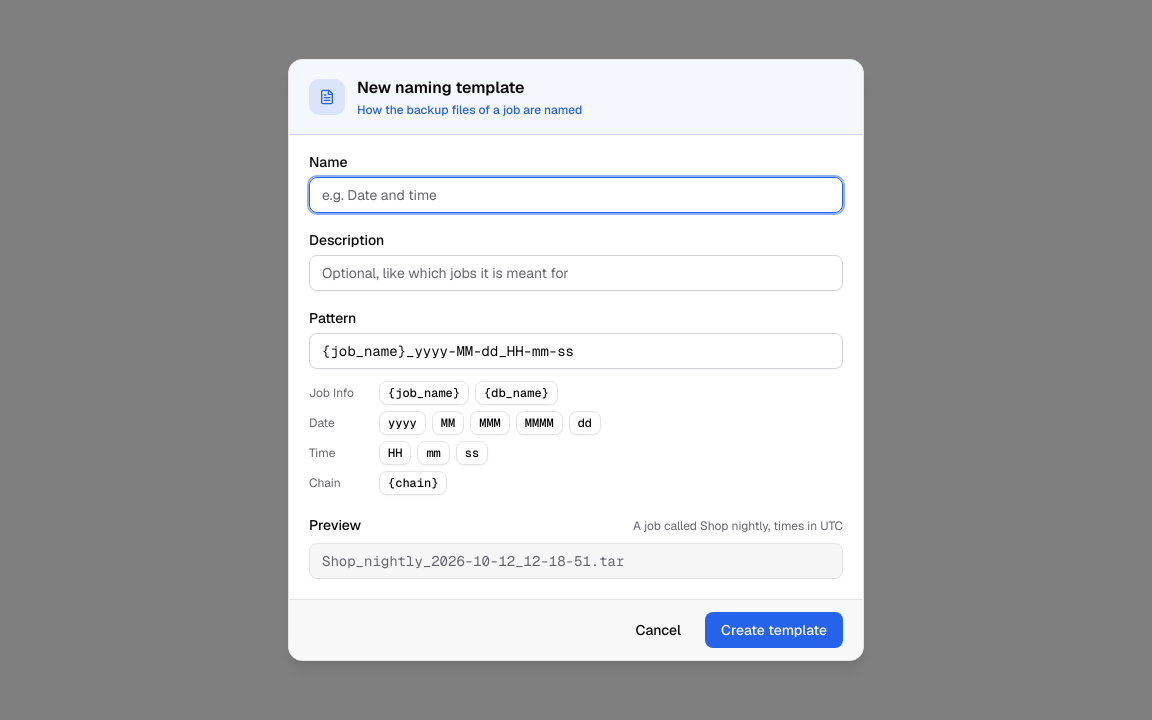
Test: naming template dialog › asks for a name before it saves
The image size is (1152, 720).
Click the button "Create template": [774, 630] box [705, 612, 843, 648]
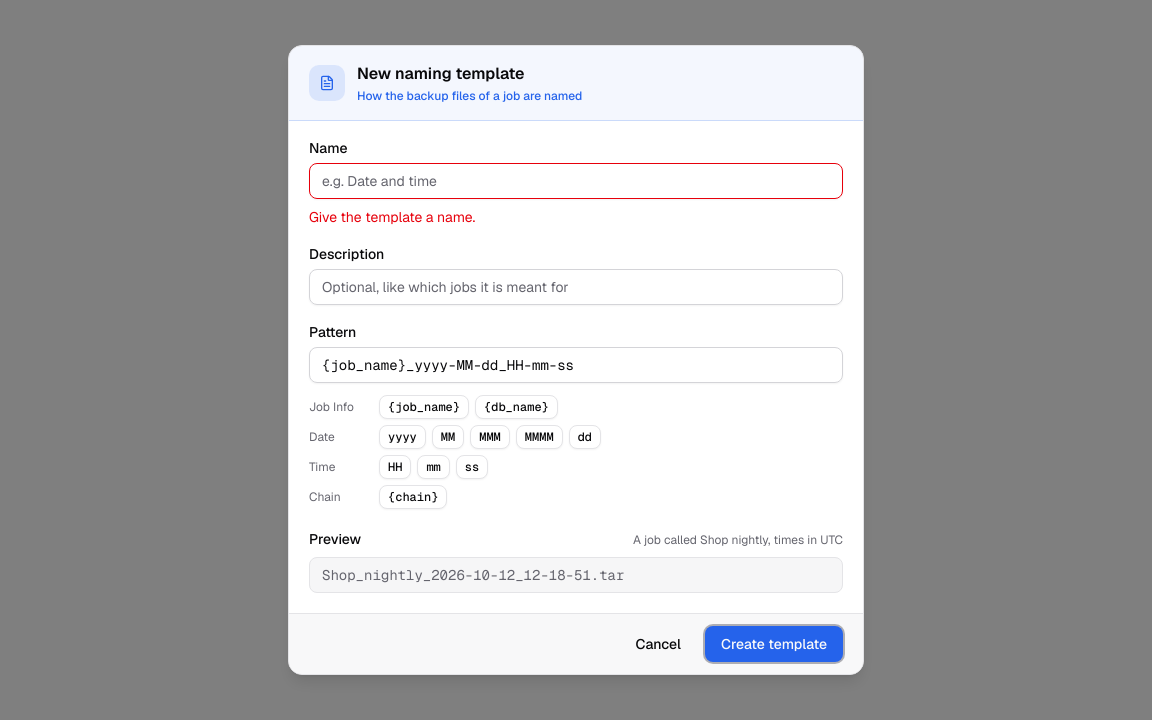
Check: the text "Give the template a name." is shown, box [309, 208, 475, 226]
